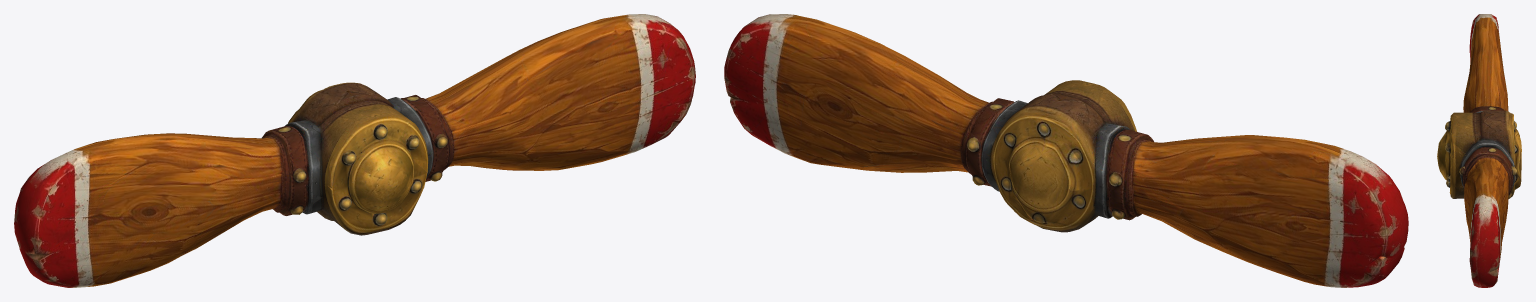
The model's file is para-propeller.glb.
3 renders of one model, left to right at view 1: azimuth 30°, elevation 25°; view 2: azimuth 150°, elevation 25°; view 3: azimuth 270°, elevation 25°, orthographic. The views are drawn at different scales.
Bounding box in the file's own units: 2 × 0.3987 × 0.33.
1 material, 1 textured.
